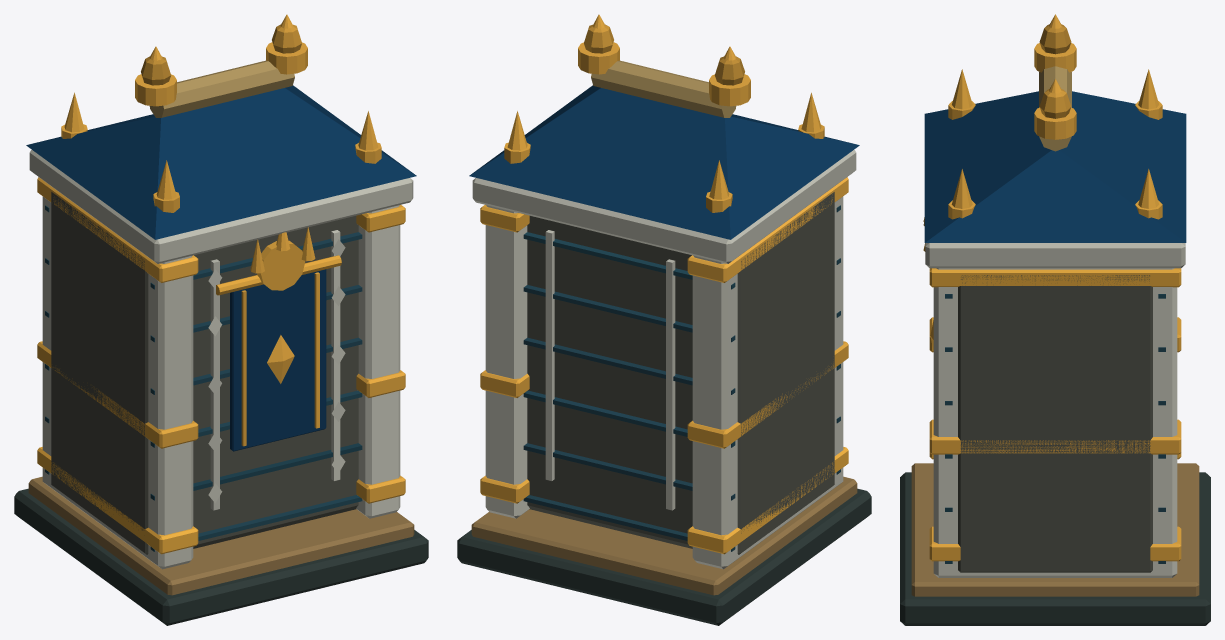
File: wall_3.glb
3 views of the same model, side by side, from view 1: azimuth 30°, elevation 25°; view 2: azimuth 150°, elevation 25°; view 3: azimuth 270°, elevation 25° (orthographic).
Parts seen in each view (by area): view 1: wall_3_structure, wall_3_brass; view 2: wall_3_structure, wall_3_brass; view 3: wall_3_structure, wall_3_brass.
Part boxes in pixels (x1,y1,x2,y2): wall_3_structure: (14, 24, 428, 625); wall_3_brass: (37, 14, 405, 554); wall_3_structure: (457, 24, 871, 625); wall_3_brass: (480, 14, 848, 554); wall_3_structure: (900, 24, 1210, 625); wall_3_brass: (923, 14, 1181, 561).
Bounding box in the file's own units: 1.9 × 3.48 × 1.9.
